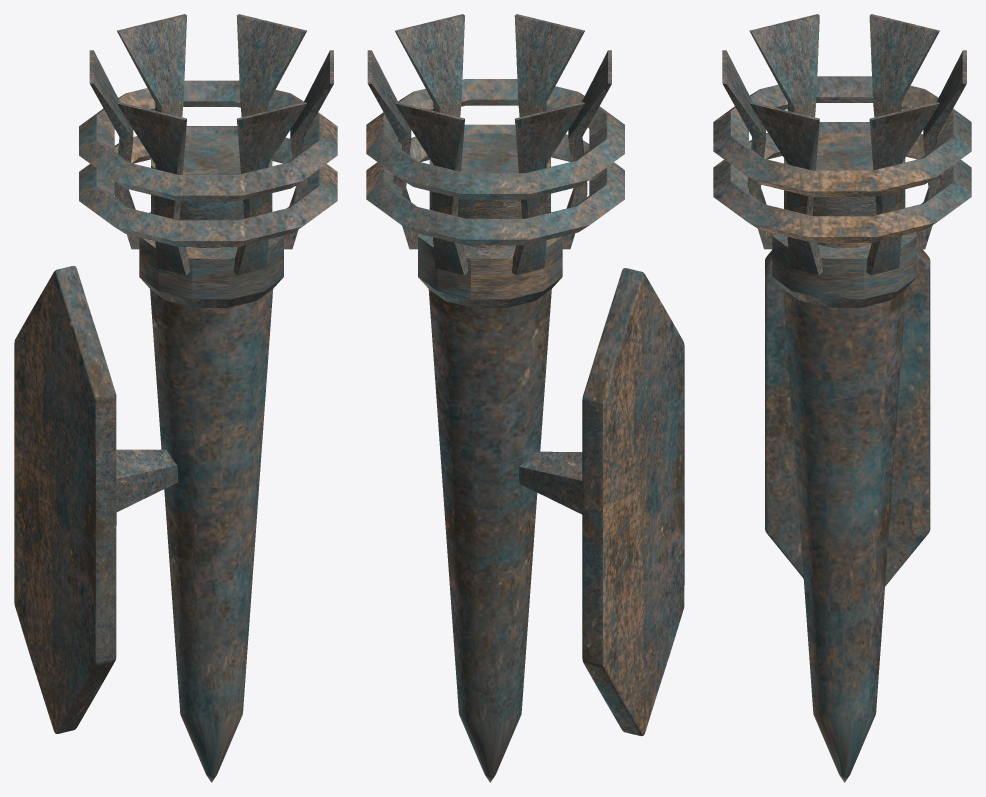
Rendered from Antorcha01.fbx.
3 renders of one model, left to right at view 1: azimuth 30°, elevation 25°; view 2: azimuth 150°, elevation 25°; view 3: azimuth 270°, elevation 25°, orthographic.
Visible parts, largest first — view 1: pCylinder1, Soporte, pTorus1, pTorus2, pCube16, pCube15, pCube13, pCube6, pCube17, pCube14; view 2: pCylinder1, Soporte, pTorus1, pTorus2, pCube13, pCube14, pCube17, pCube16, pCube6, pCube15; view 3: pCylinder1, Soporte, pTorus1, pTorus2, pCube17, pCube6, pCube15, pCube14, pCube13, pCube16.
Boxes of the visible parts, left/top/right/bottom form: pCylinder1: left=139, top=133, right=283, bottom=782; Soporte: left=14, top=266, right=178, bottom=733; pTorus1: left=79, top=80, right=337, bottom=201; pTorus2: left=79, top=126, right=337, bottom=246; pCube16: left=117, top=14, right=186, bottom=117; pCube15: left=236, top=14, right=306, bottom=117; pCube13: left=233, top=102, right=306, bottom=275; pCube6: left=117, top=102, right=189, bottom=275; pCube17: left=89, top=50, right=139, bottom=249; pCube14: left=284, top=50, right=333, bottom=249; pCylinder1: left=418, top=133, right=562, bottom=782; Soporte: left=519, top=268, right=684, bottom=736; pTorus1: left=366, top=79, right=624, bottom=199; pTorus2: left=366, top=124, right=624, bottom=245; pCube13: left=514, top=14, right=584, bottom=117; pCube14: left=395, top=14, right=464, bottom=117; pCube17: left=512, top=102, right=584, bottom=275; pCube16: left=395, top=102, right=467, bottom=275; pCube6: left=562, top=50, right=611, bottom=249; pCube15: left=367, top=50, right=417, bottom=249; pCylinder1: left=772, top=133, right=916, bottom=782; Soporte: left=765, top=249, right=930, bottom=586; pTorus1: left=713, top=76, right=971, bottom=196; pTorus2: left=713, top=122, right=971, bottom=242; pCube17: left=869, top=14, right=939, bottom=117; pCube6: left=749, top=14, right=819, bottom=117; pCube15: left=866, top=102, right=939, bottom=275; pCube14: left=749, top=102, right=822, bottom=275; pCube13: left=722, top=50, right=772, bottom=249; pCube16: left=916, top=50, right=966, bottom=249.
Bounding box in the file's own units: 0.3947 × 1.02 × 0.3334.
